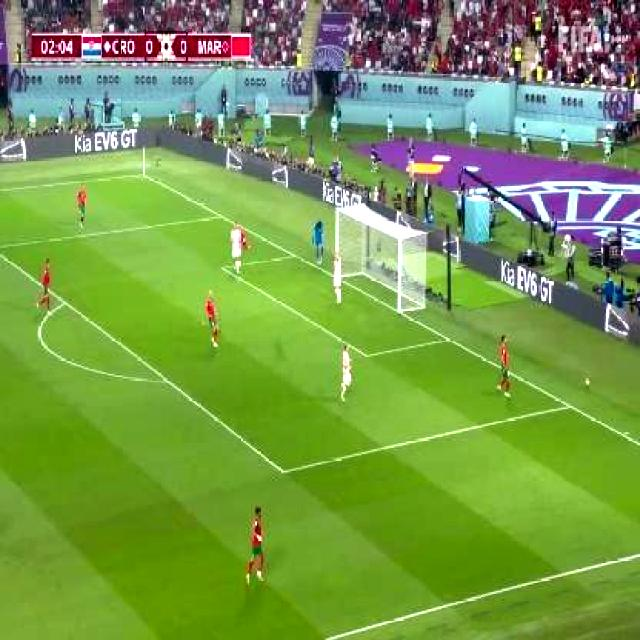bigarea_bottom_inner: (272, 457, 292, 483)
bigarea_bottom_outter: (562, 395, 578, 417)
bigarea_top_outter: (212, 208, 228, 223)
bottom_arc_area_intersection: (157, 369, 174, 391)
corner: (134, 168, 149, 180)
smallarea_bottom_inner: (357, 342, 375, 368)
smallarea_bottom_outter: (438, 329, 456, 348)
smallarea_top_inner: (214, 257, 229, 277)
smallarea_top_outter: (286, 245, 300, 263)
top_arc_area_intersection: (56, 291, 72, 312)
